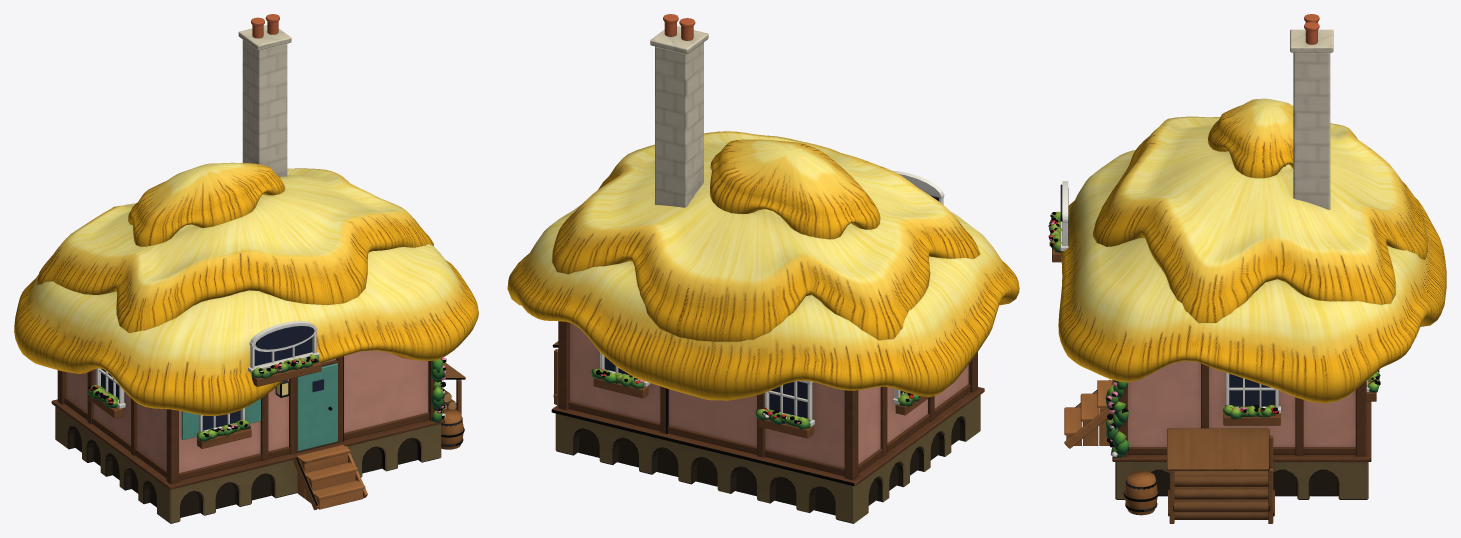
File: cottage_a.glb
3 renders of one model, left to right at view 1: azimuth 30°, elevation 25°; view 2: azimuth 150°, elevation 25°; view 3: azimuth 270°, elevation 25°, orthographic. The views are drawn at different scales.
Parts seen in each view (by area): view 1: cottage_a; view 2: cottage_a; view 3: cottage_a.
Part boxes in pixels (<box>): cottage_a: <box>14,14,478,523</box>; cottage_a: <box>507,14,1019,523</box>; cottage_a: <box>1048,14,1446,523</box>.
Bounding box in the file's own units: 12.06 × 11.64 × 9.69.
1 material, 1 textured.
